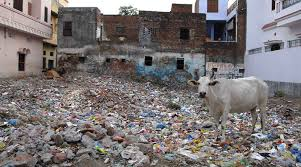garbage: (3, 79, 186, 167), (115, 139, 301, 166), (268, 105, 300, 167)
